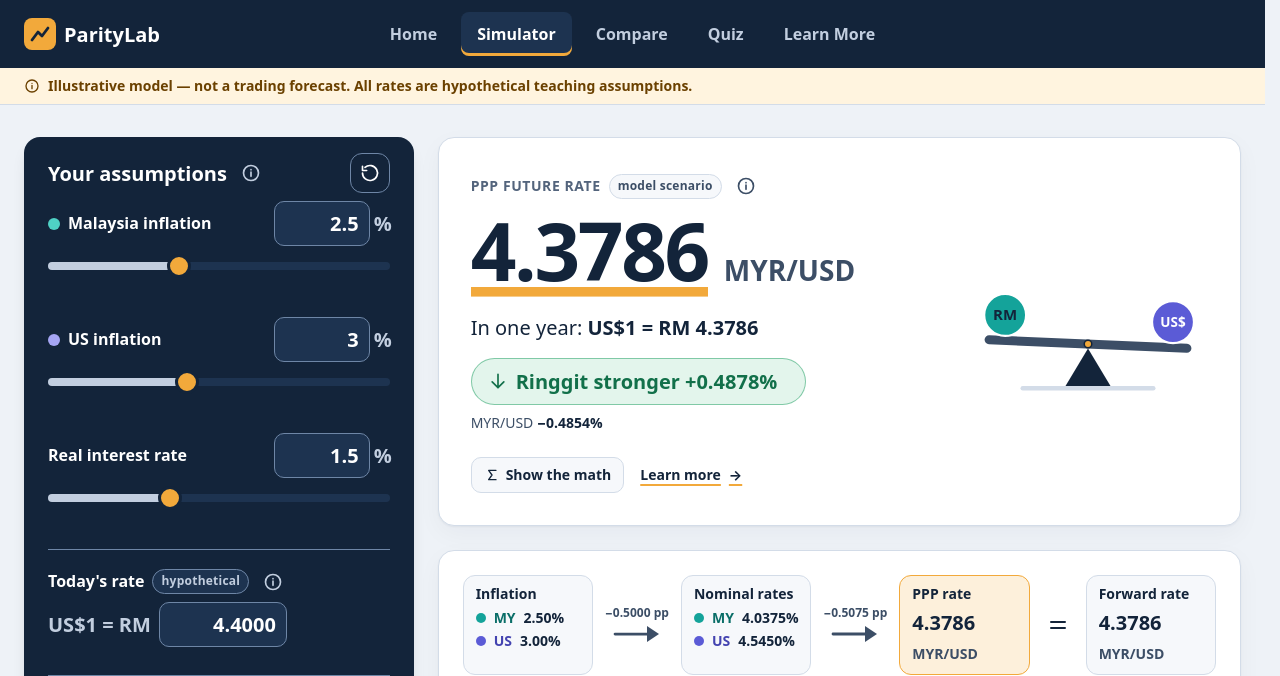
Test case: Invalid input never shows stale results › spot = 0 and out-of-range values are rejected
The width and height of the screenshot is (1280, 676).
Replace the text in the field labelled "Today's rate US$1 = RM" with "0" at (223, 624), box [159,602,287,647]
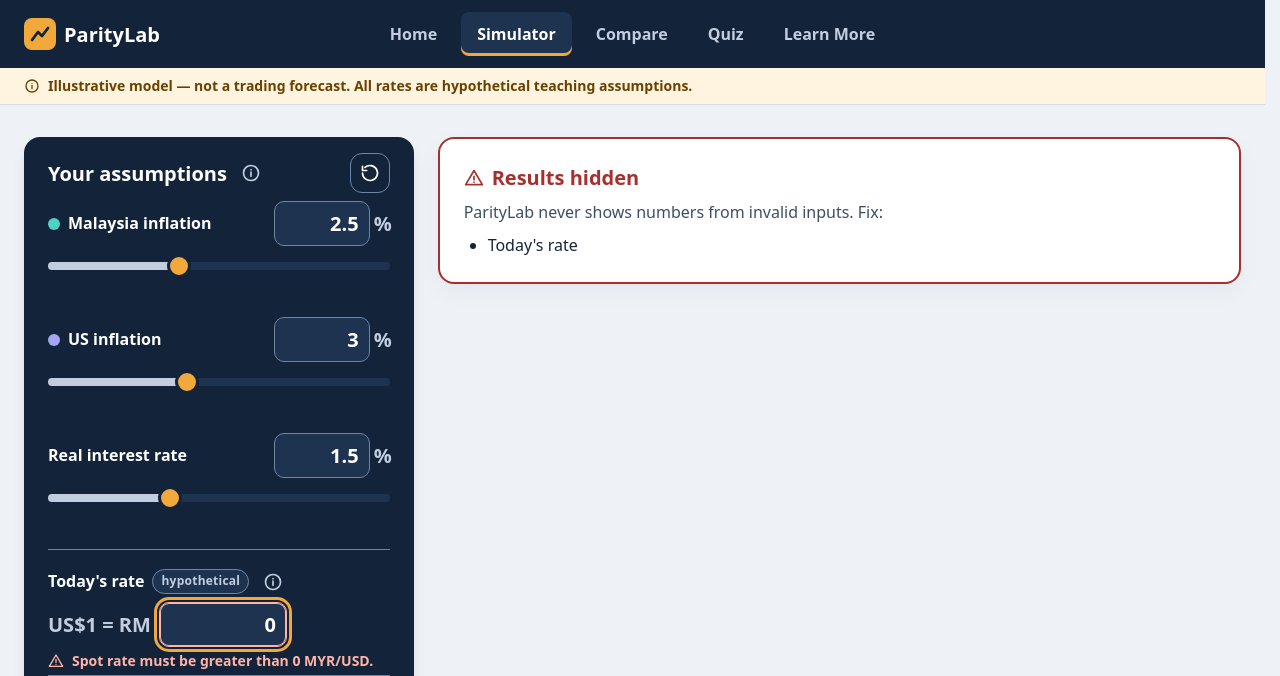
expect the element with test id "results-hidden" is shown: met, box [438,137,1241,284]
expect the text "Spot rate must be greater than 0 MYR/USD." is shown: met, box [72,651,373,671]
Replace the text in the field labelled "Today's rate US$1 = RM" with "4.4" at (223, 624), box [159,602,287,647]
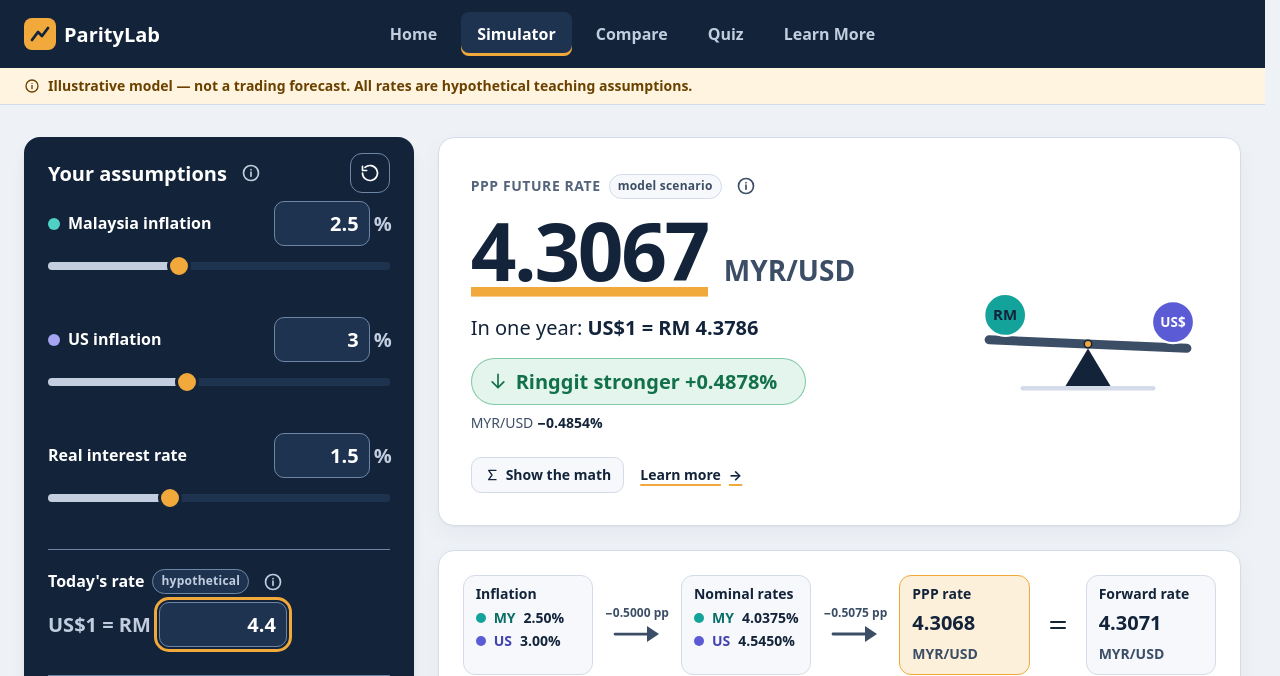
expect the element with test id "results-hidden" is gone: met
Replace the text in the field labelled "US inflation" with "20" at (322, 340), box [274,317,370,362]
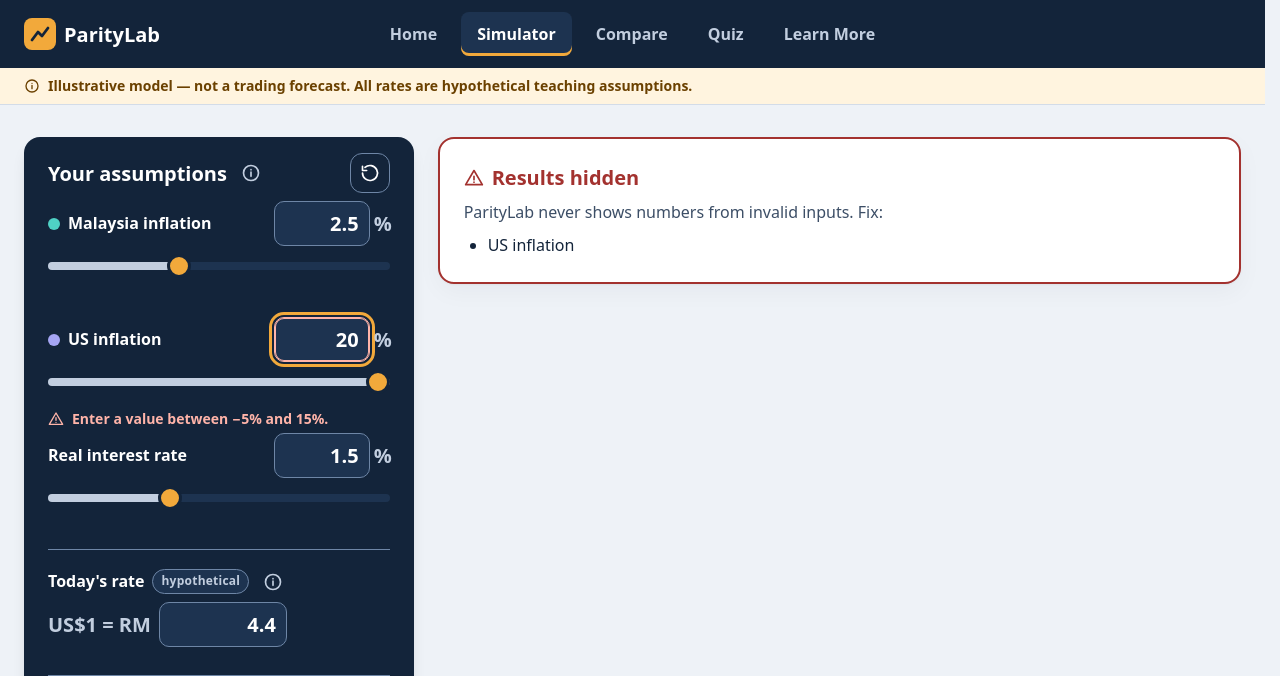
expect the text "Enter a value between −5% and 15%." is shown: met, box [72,409,328,429]
